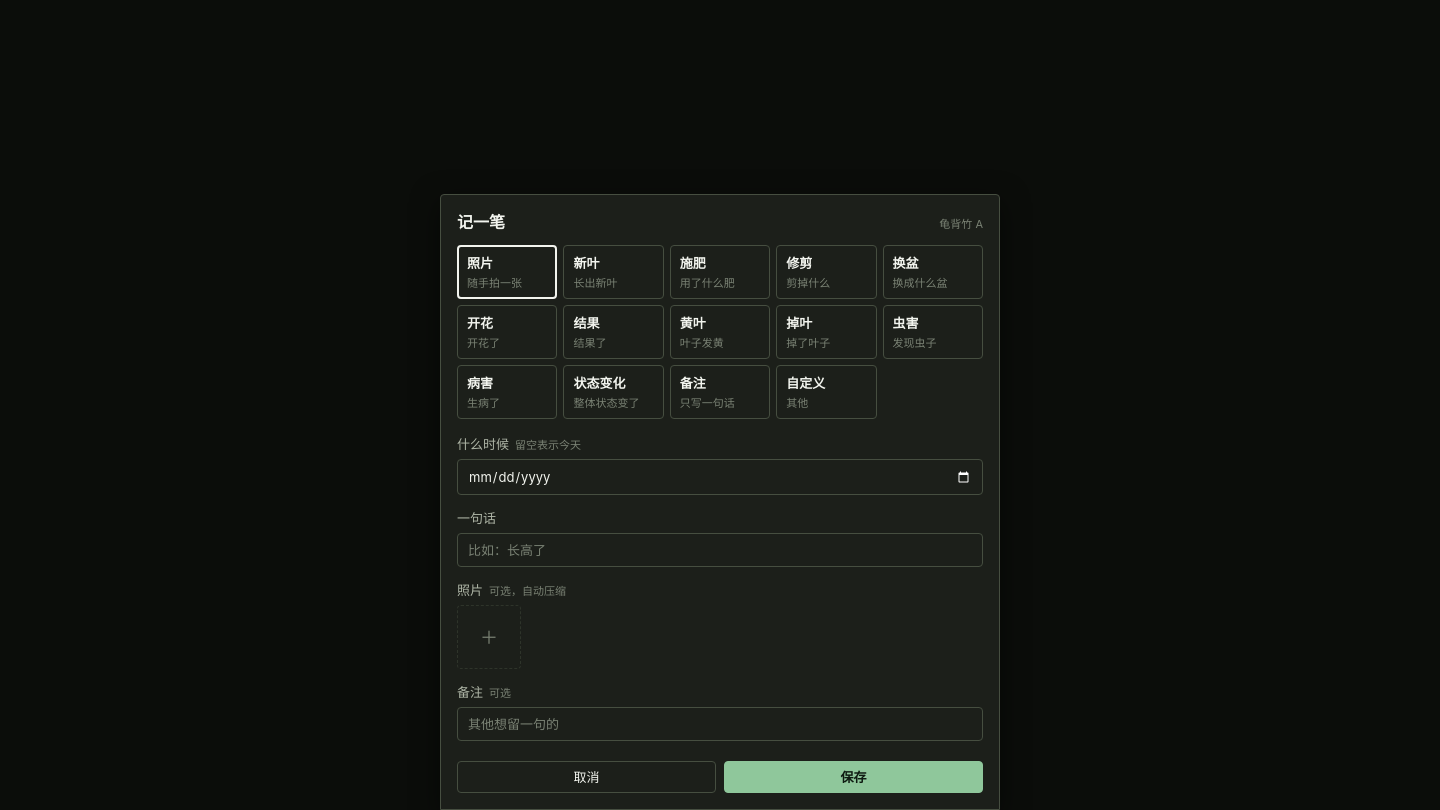
提交：校验在保存前生效 › 什么都不填被拒，不产生空事件
Click the button "保存": [854, 777] box 724,761 -> 983,793
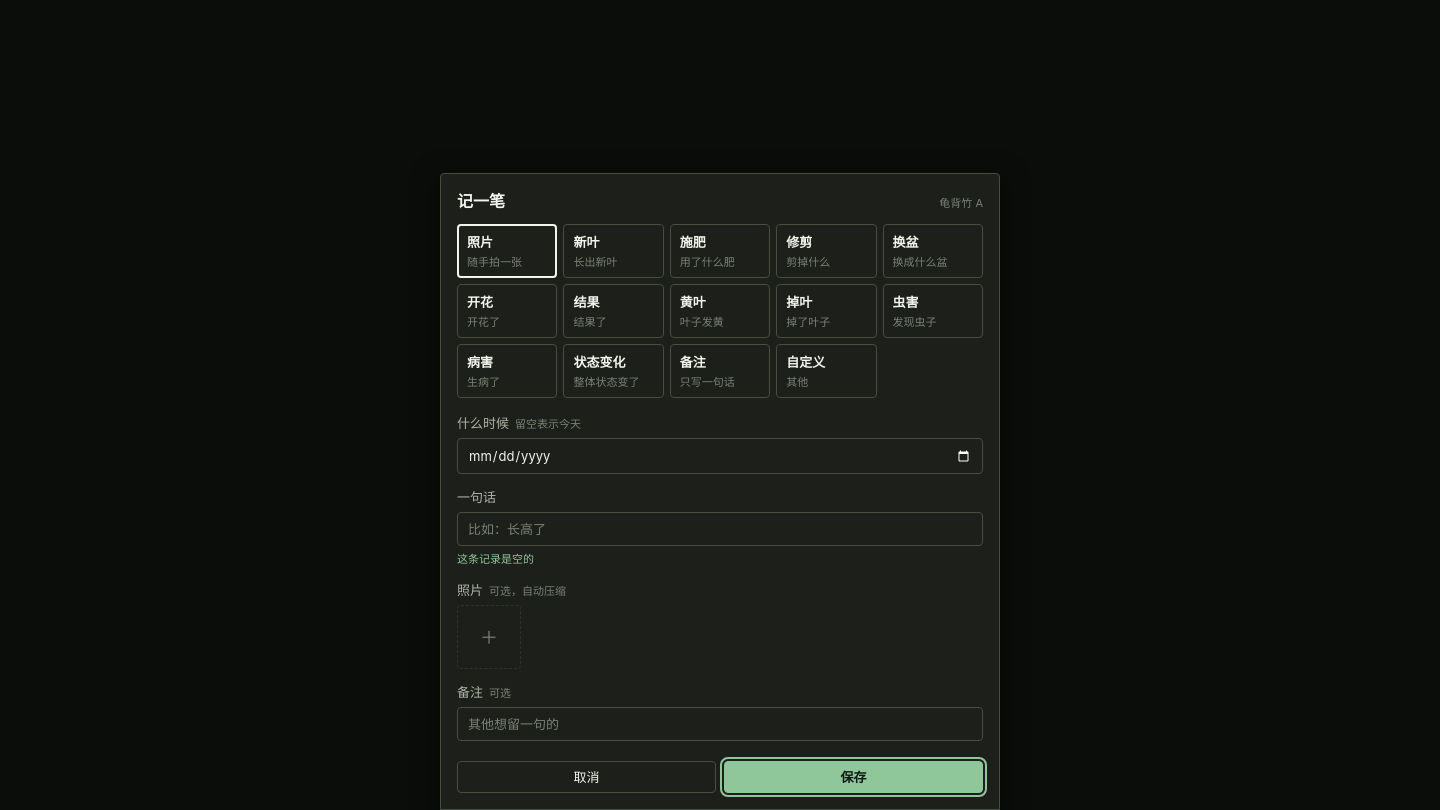
Expected: the message "这条记录是空的" is shown, 457,552 -> 534,566
